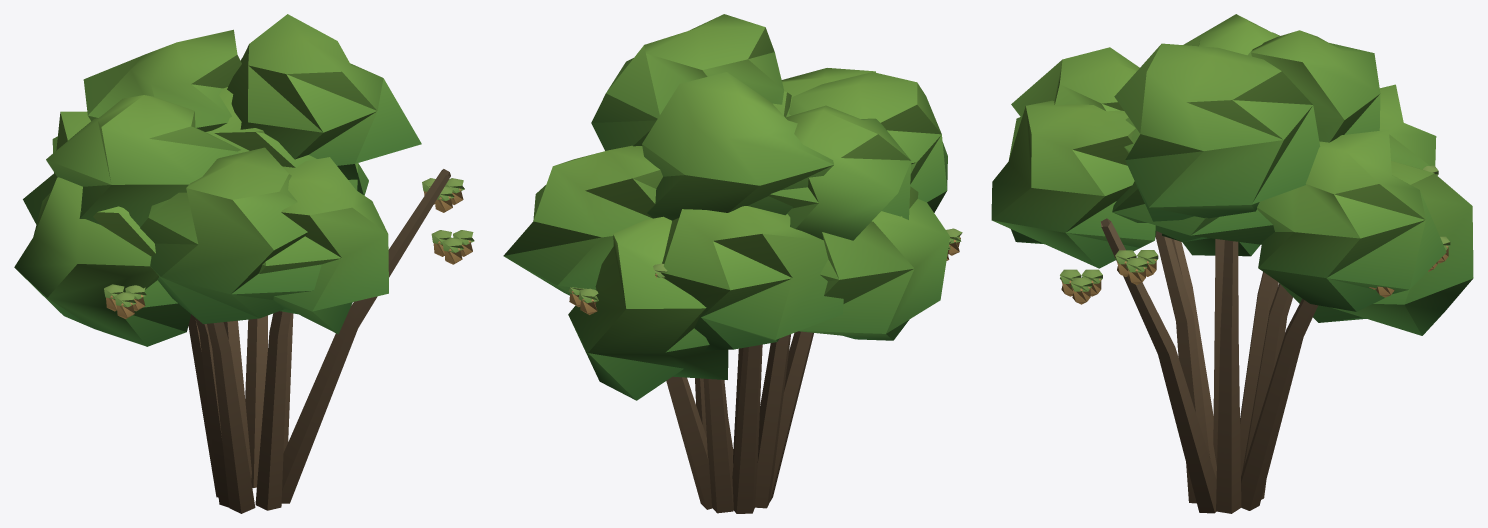
Rendered from hazel.glb.
The picture shows the model from 3 angles, left to right: view 1: azimuth 30°, elevation 25°; view 2: azimuth 150°, elevation 25°; view 3: azimuth 270°, elevation 25°; orthographic projection. The views are drawn at different scales.
Visible parts, largest first — view 1: hazel; view 2: hazel; view 3: hazel.
Part boxes in pixels (x1=…): hazel: x1=14, y1=14, x2=474, y2=513; hazel: x1=503, y1=14, x2=962, y2=513; hazel: x1=991, y1=14, x2=1473, y2=513.
Bounding box in the file's own units: 0.8747 × 1.03 × 0.9607.
